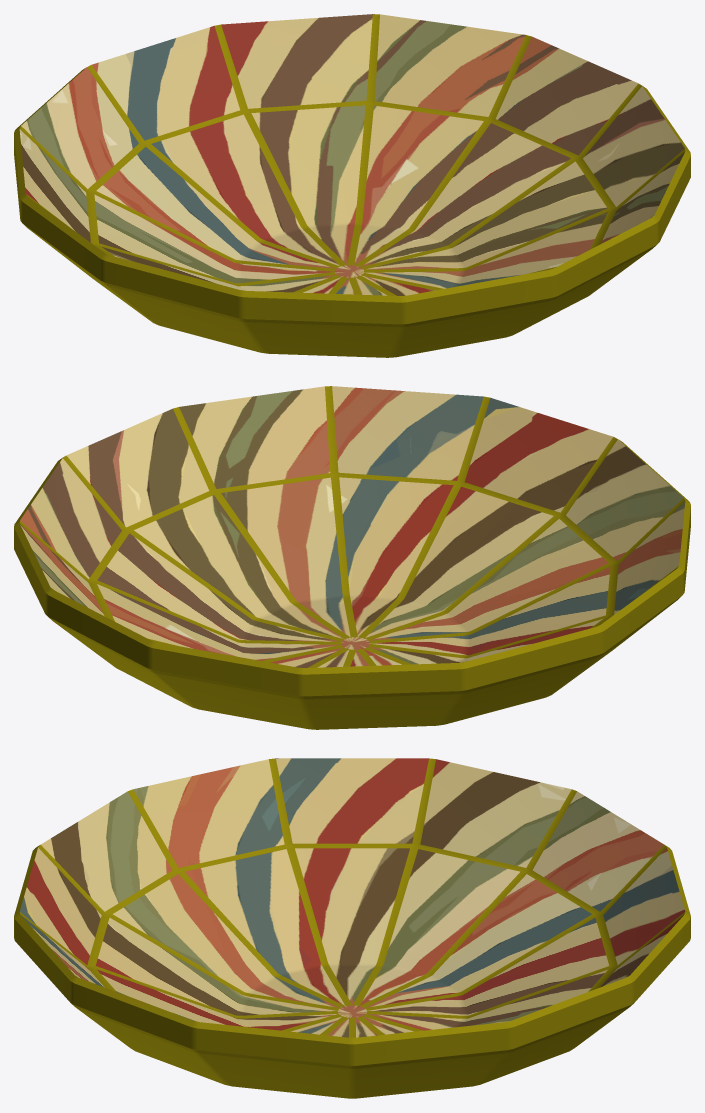
The model's file is bowl.fbx.
The picture shows the model from 3 angles, top to bottom: view 1: azimuth 30°, elevation 25°; view 2: azimuth 150°, elevation 25°; view 3: azimuth 270°, elevation 25°; orthographic projection.
Parts seen in each view (by area): view 1: pCylinder10; view 2: pCylinder10; view 3: pCylinder10.
Part boxes in pixels (bbox=[...]): pCylinder10: bbox=[14, 14, 690, 357]; pCylinder10: bbox=[14, 386, 690, 729]; pCylinder10: bbox=[14, 758, 690, 1098].
Bounding box in the file's own units: 2.16 × 0.5183 × 2.17.
